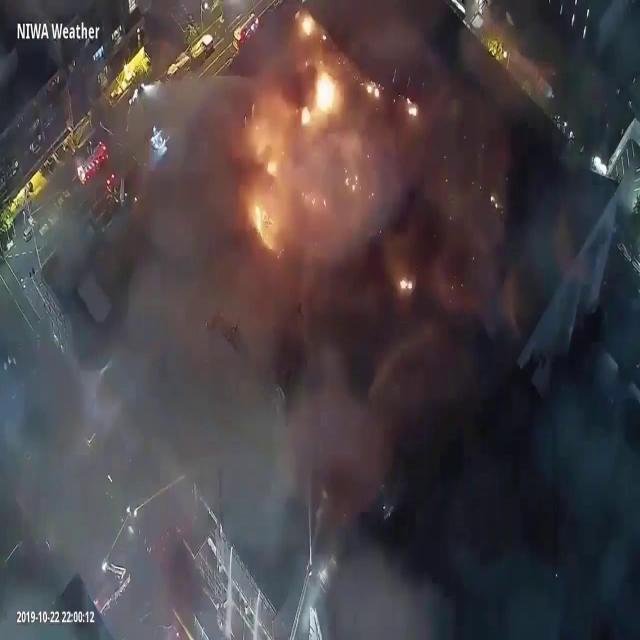Fire: (251, 202, 275, 247), (316, 77, 338, 111), (406, 94, 418, 119), (365, 82, 381, 98), (300, 14, 312, 34), (300, 105, 310, 124), (400, 275, 414, 288)
